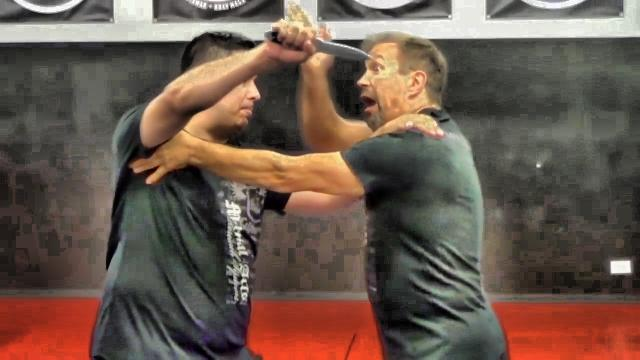knife: (260, 16, 374, 63)
